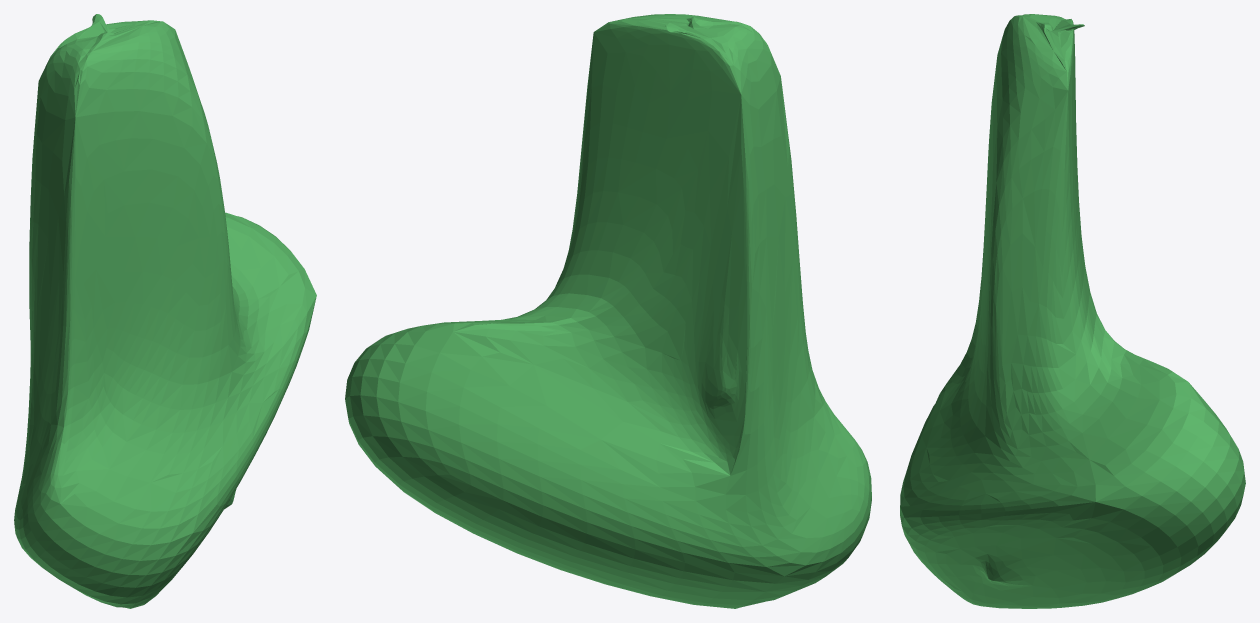
3 views of the same model, side by side, from view 1: azimuth 30°, elevation 25°; view 2: azimuth 150°, elevation 25°; view 3: azimuth 270°, elevation 25° (orthographic). The views are drawn at different scales.
Parts seen in each view (by area): view 1: 736_Cube.2954; view 2: 736_Cube.2954; view 3: 736_Cube.2954.
Part boxes in pixels (bbox=[...]): 736_Cube.2954: bbox=[14, 14, 316, 608]; 736_Cube.2954: bbox=[345, 14, 871, 608]; 736_Cube.2954: bbox=[900, 14, 1245, 608].
Size of the model in its own units: 9.47 by 13.88 by 7.44.
